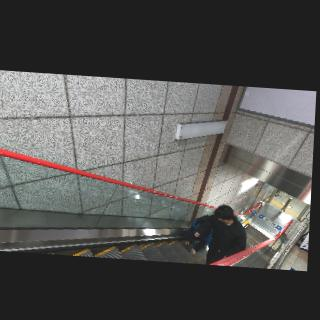anomaly: (185, 212, 216, 259)
normal: (192, 202, 253, 267)
